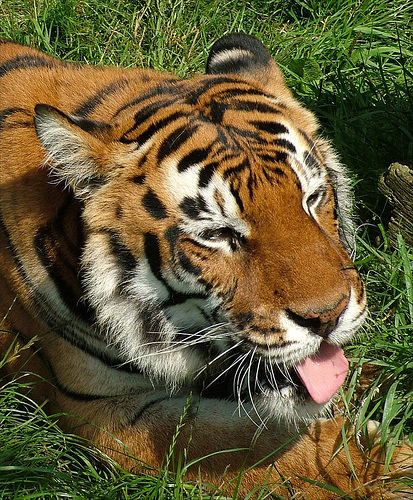Tigre: (11, 14, 395, 476)
